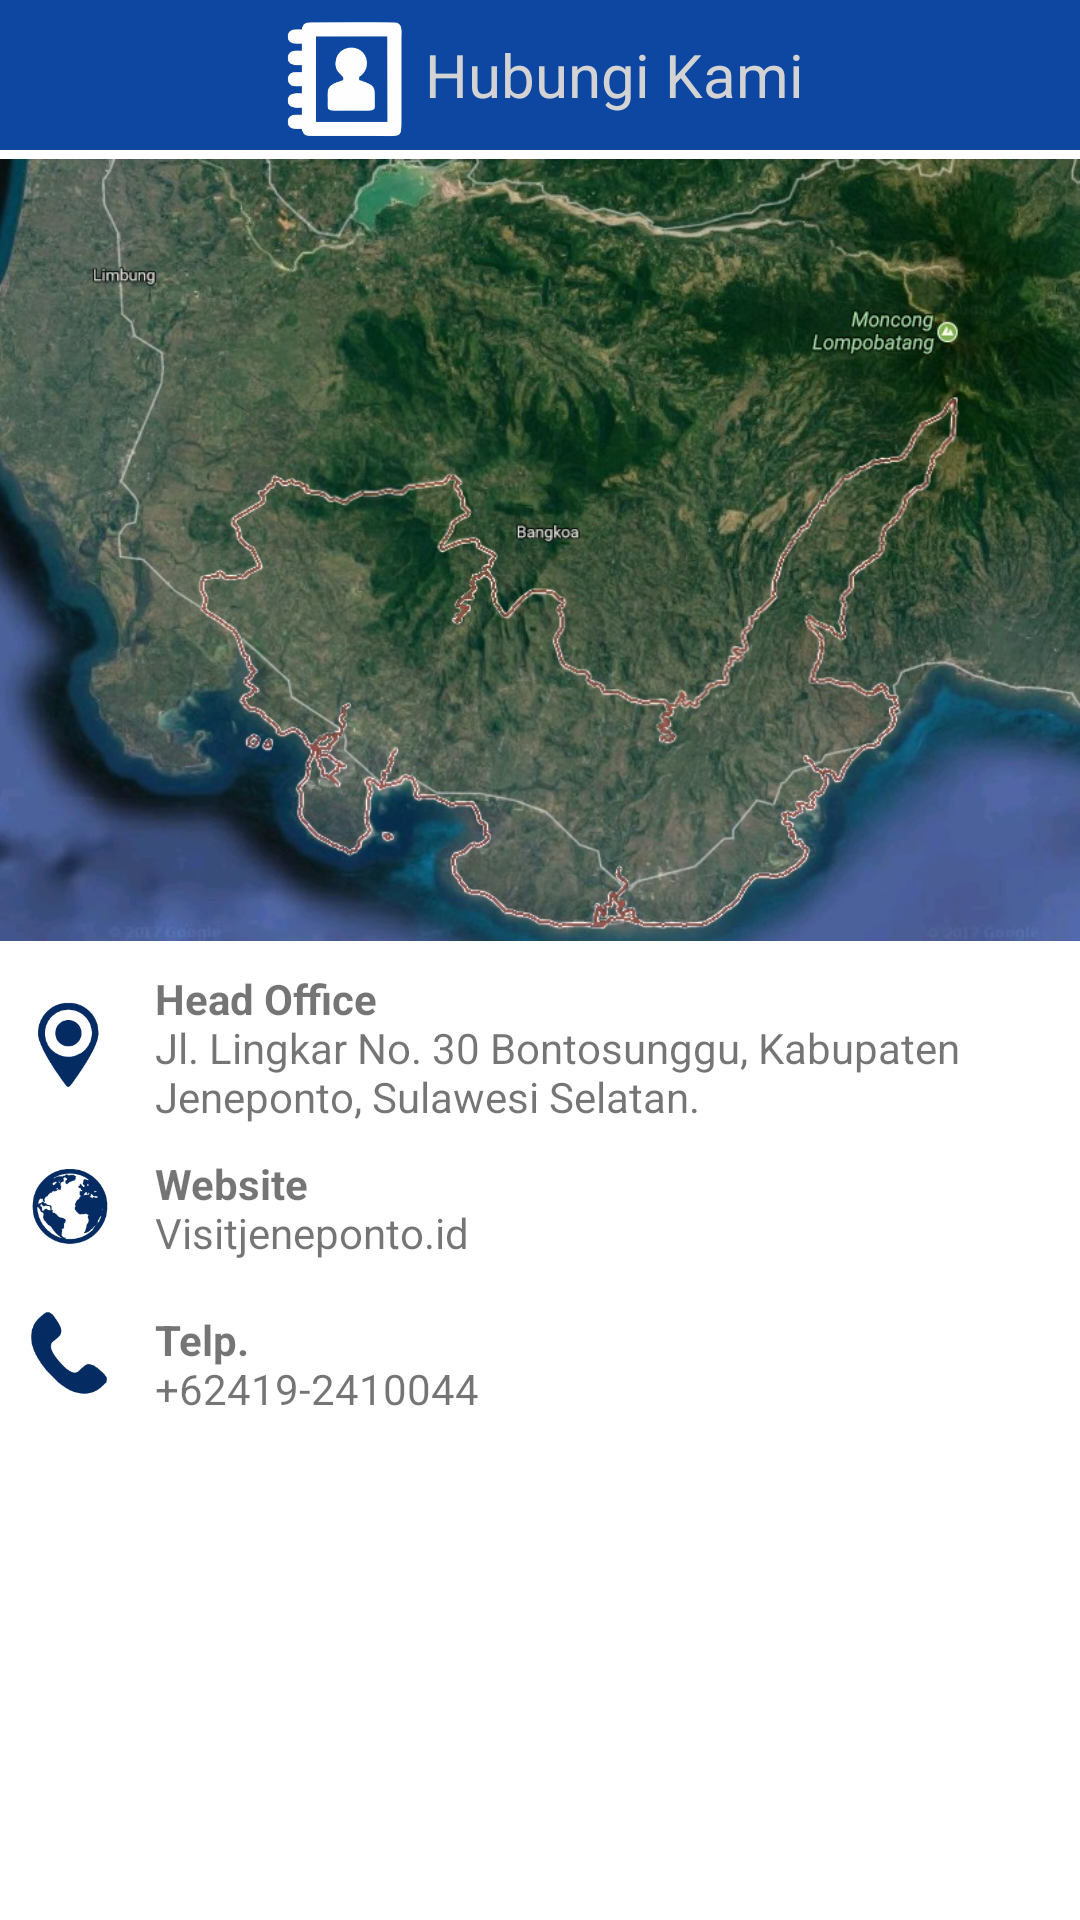

Point at icon controls on the screen. Image size 1080×1920, points as point (x, y).
kontak: point (345, 79)
lokasi: point (68, 1045)
phone: point (69, 1353)
